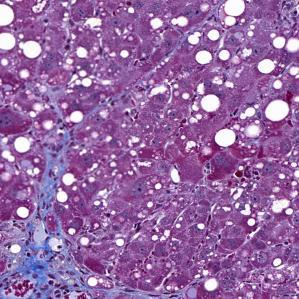fibrosis: (23, 147, 82, 297)
